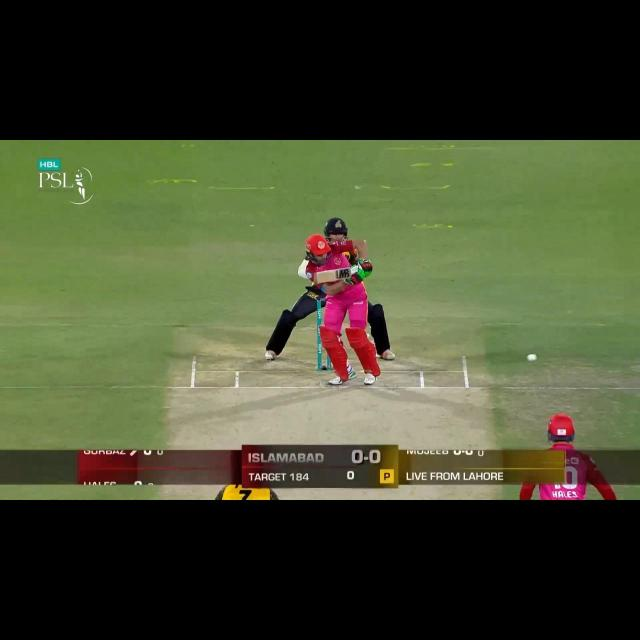bat: (313, 267, 352, 286)
toe: (313, 270, 322, 285)
